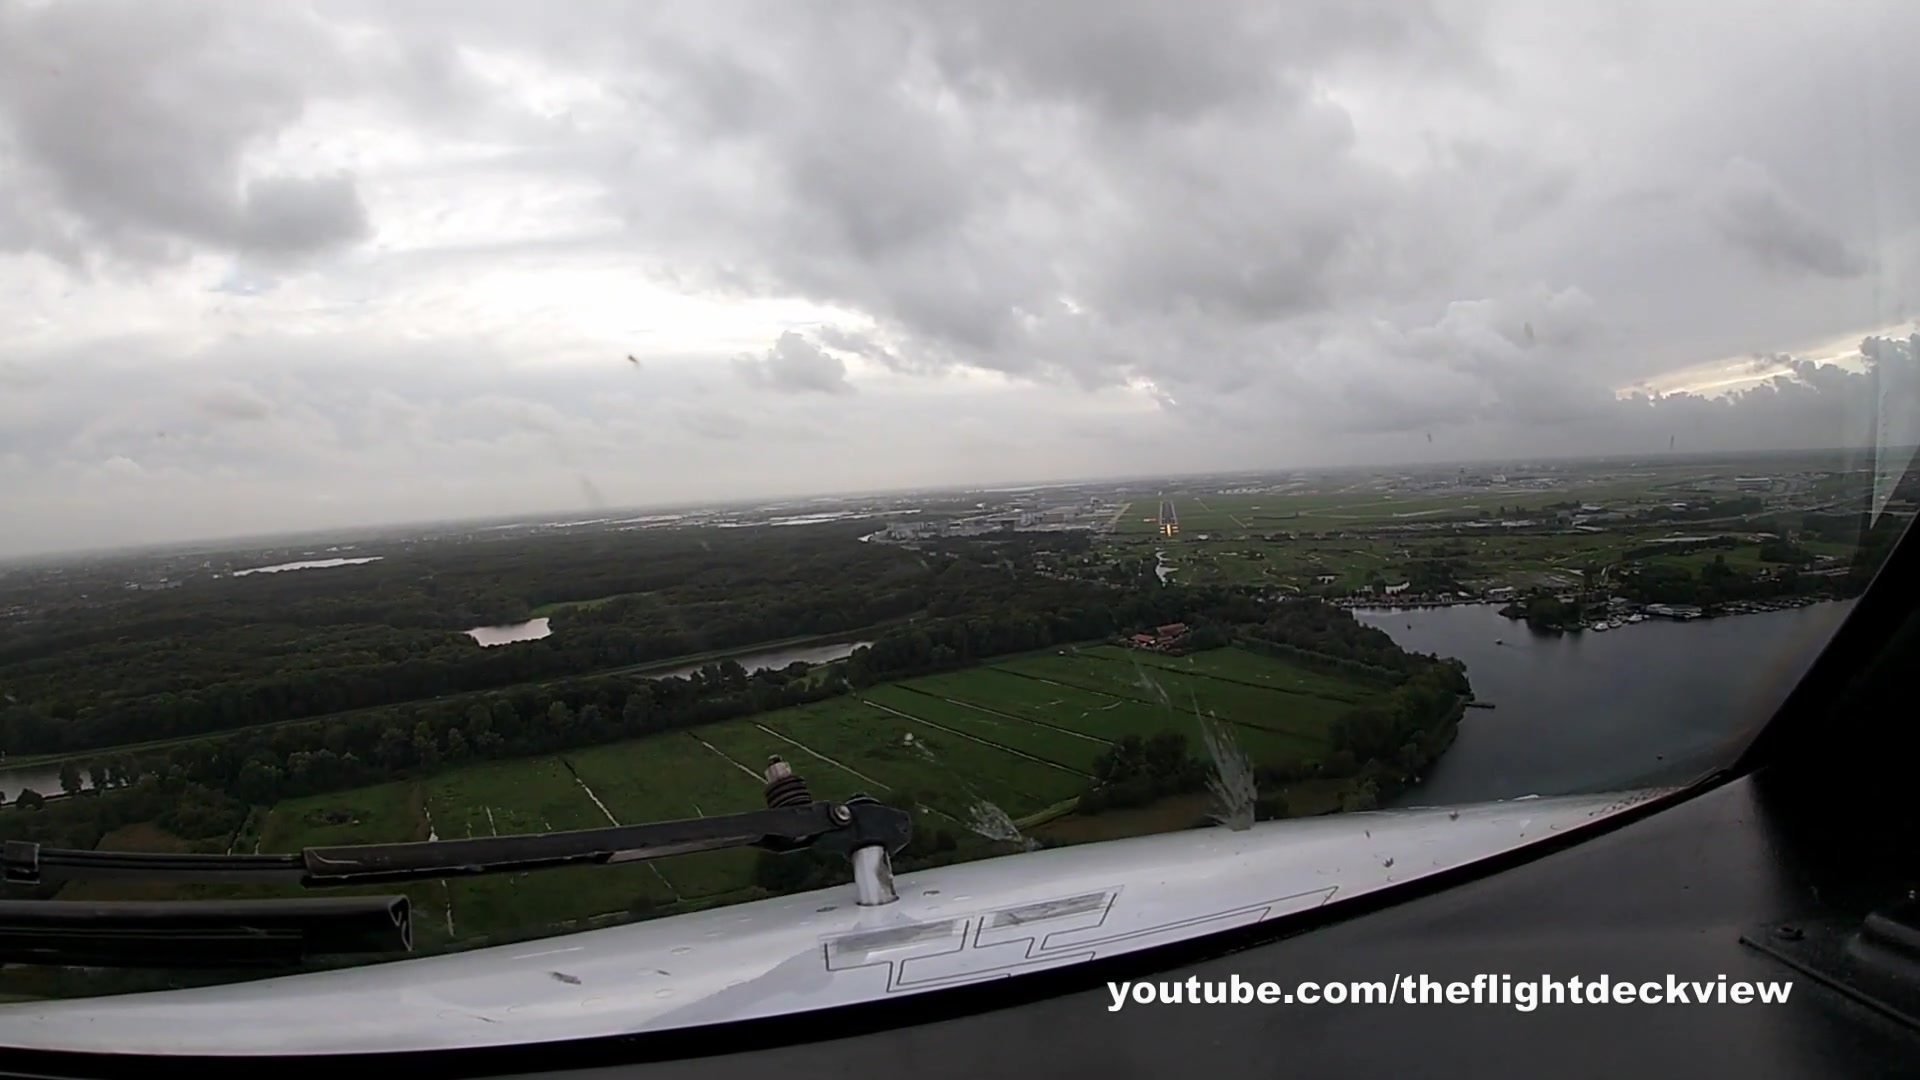runway: (1156, 497, 1179, 535)
